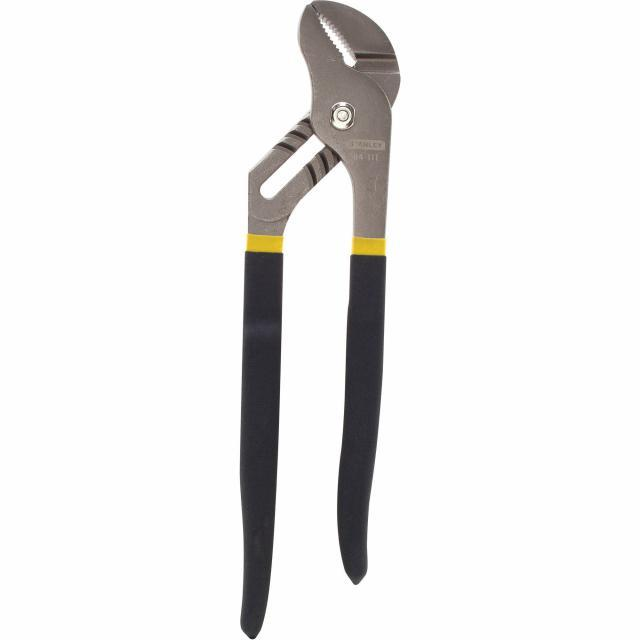pliers: (230, 0, 400, 638)
